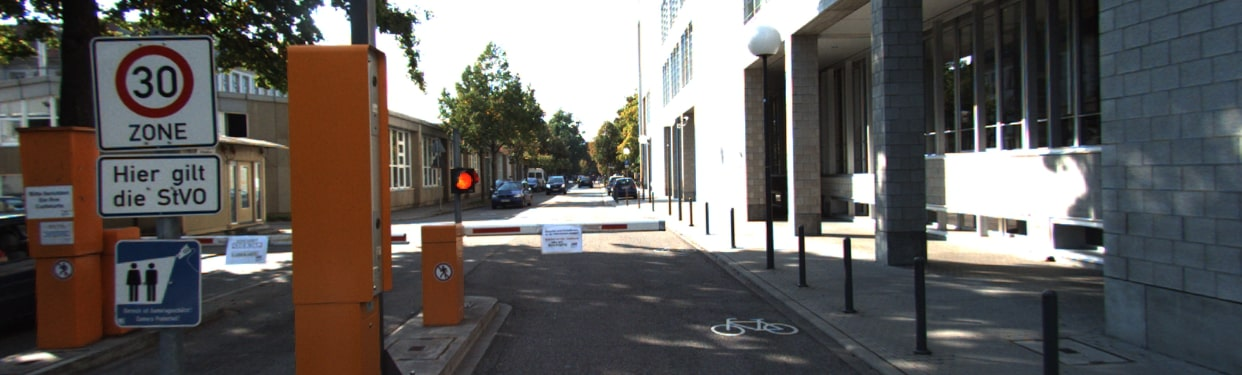car: (482, 174, 540, 215), (609, 173, 647, 203), (545, 173, 574, 200), (577, 173, 598, 194)
